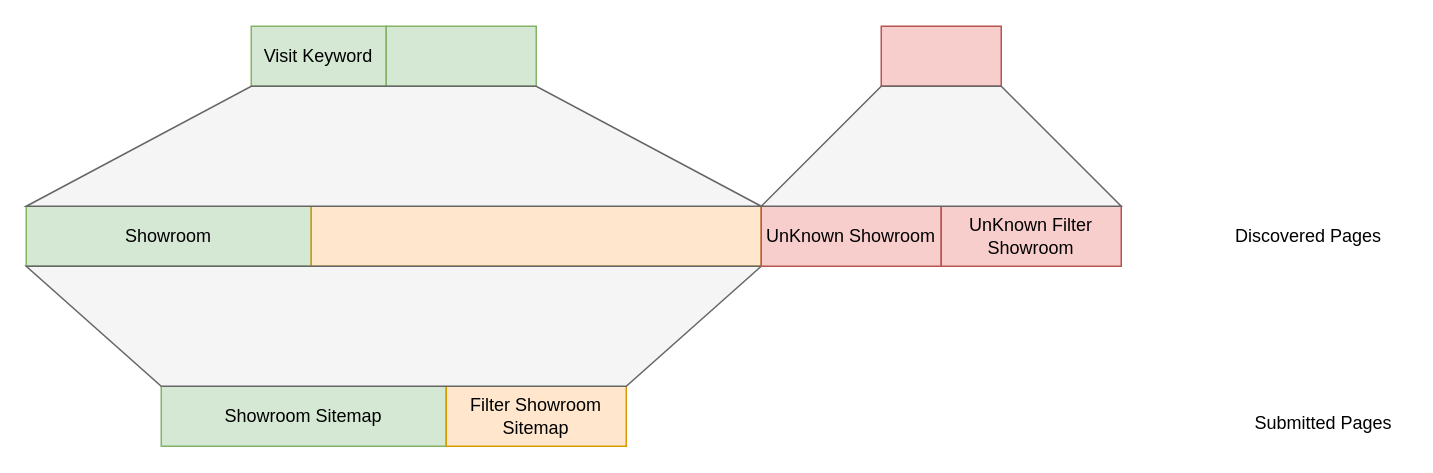
Some shapes in this 1433 by 473 pixel diagram are drawn without their labels. Here are the shapes that lost their labels. From the top down, the box of each, then its label:
(385, 25, 536, 86): New Keyword
(880, 25, 1001, 86): Unknown Keyword
(310, 205, 761, 266): Filter Showroom
